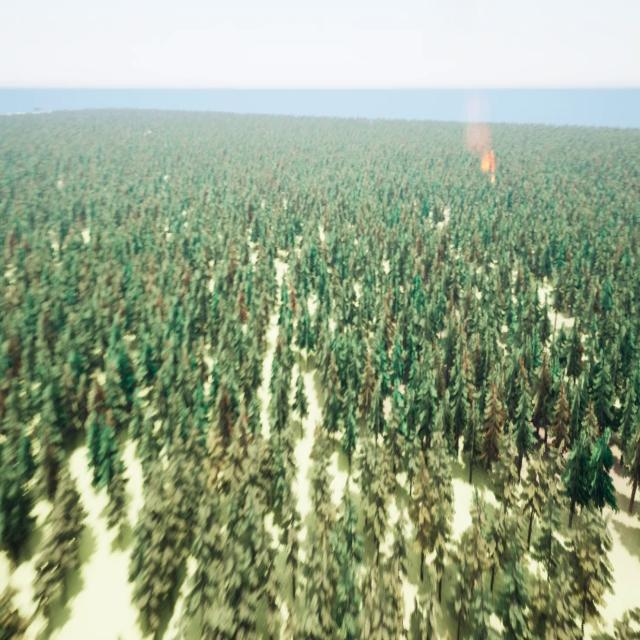fire: (481, 147, 499, 178)
smoke: (462, 89, 489, 153)
